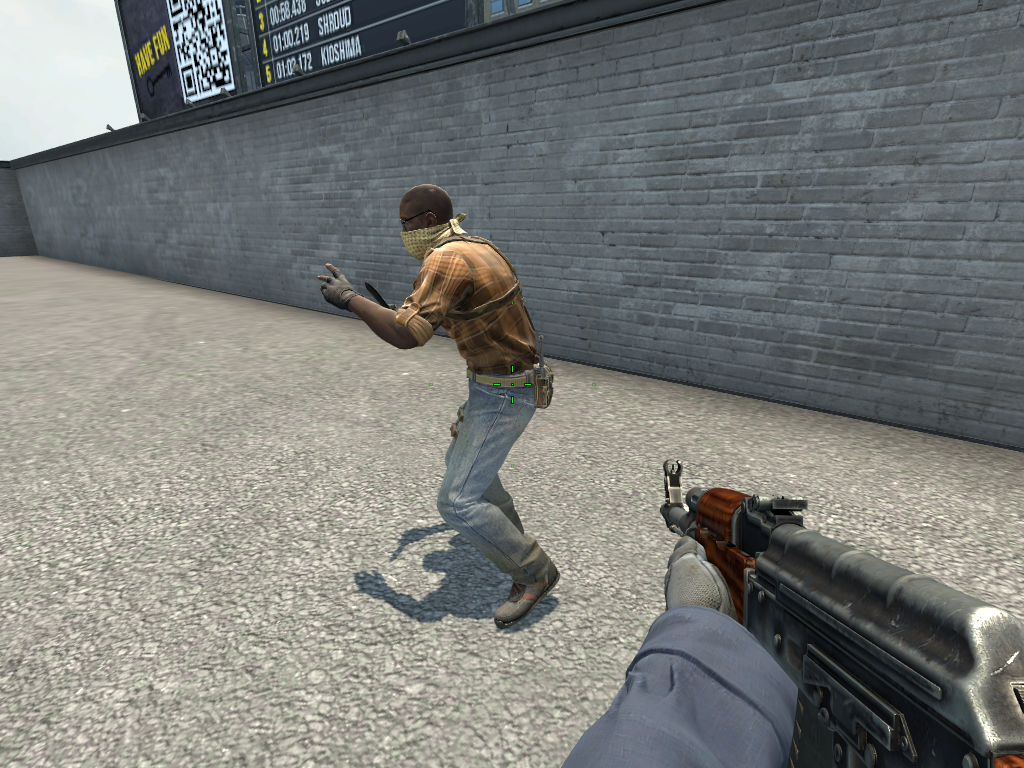tr head: (396, 178, 464, 263)
